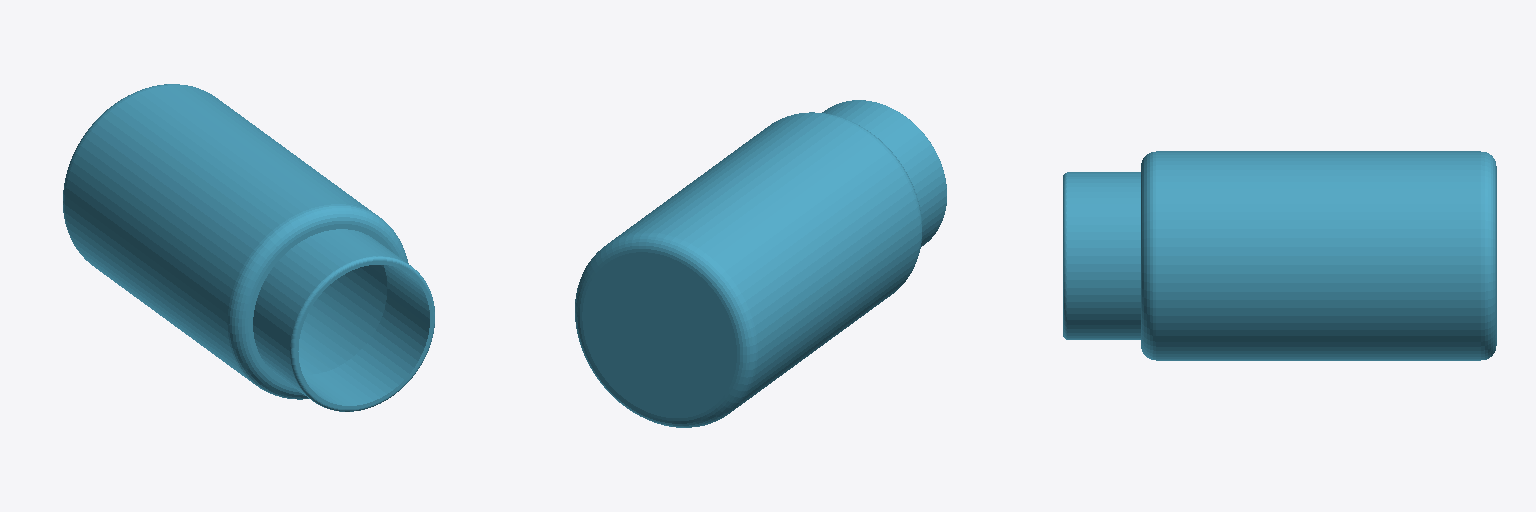
Rendered from body.obj.
The picture shows the model from 3 angles: view 1: azimuth 30°, elevation 25°; view 2: azimuth 150°, elevation 25°; view 3: azimuth 270°, elevation 25°; orthographic projection.
Parts seen in each view (by area): view 1: 20Ml_Body; view 2: 20Ml_Body; view 3: 20Ml_Body.
Part boxes in pixels (left/top/right/bottom): 20Ml_Body: left=63, top=84, right=434, bottom=411; 20Ml_Body: left=575, top=100, right=946, bottom=427; 20Ml_Body: left=1063, top=151, right=1496, bottom=360.
Size of the model in its own units: 0.0275 by 0.0275 by 0.057.